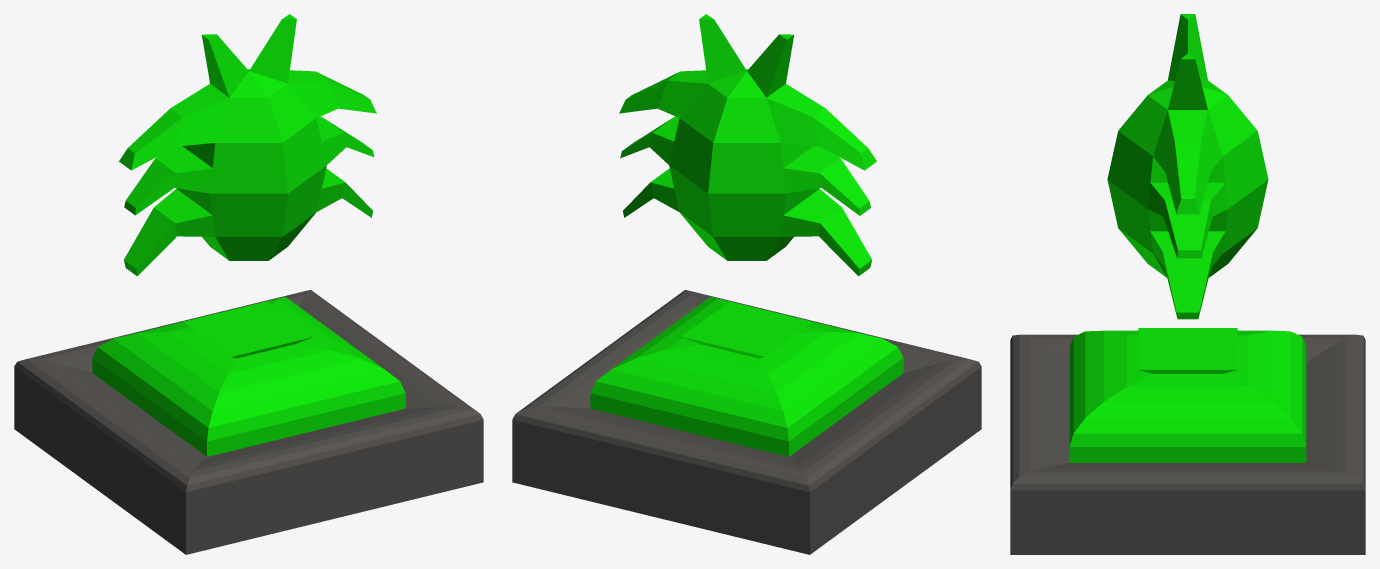
Rendered from Super pellet Bug.fbx.
The picture shows the model from 3 angles, left to right: view 1: azimuth 30°, elevation 25°; view 2: azimuth 150°, elevation 25°; view 3: azimuth 270°, elevation 25°; orthographic projection. The views are drawn at different scales.
Parts seen in each view (by area): view 1: super; view 2: super; view 3: super.
Boxes of the visible parts, box(x1,y1,x2,y2) form: super: box(14, 14, 483, 554); super: box(512, 14, 981, 554); super: box(1010, 14, 1365, 554).
Size of the model in its own units: 300 by 413 by 300.
